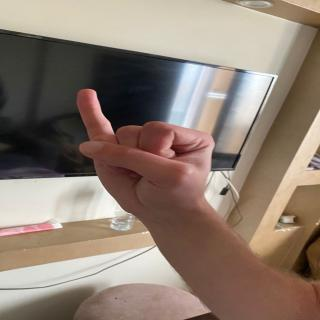MEEM: (62, 81, 236, 214)
